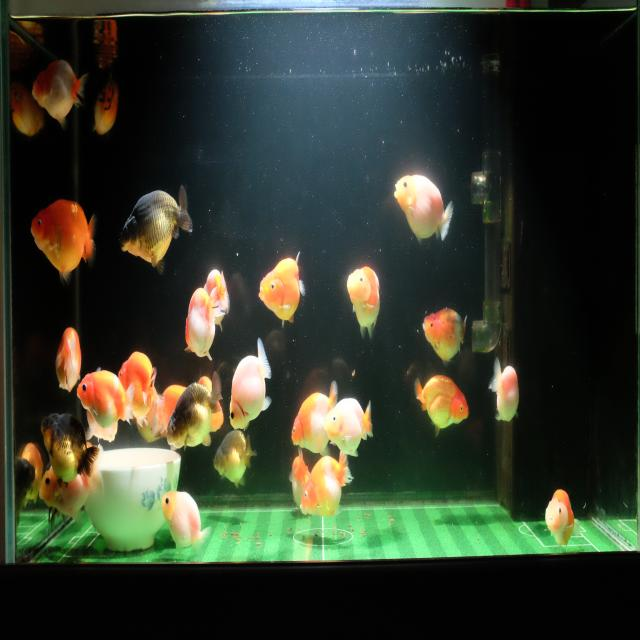Goldfish: (118, 183, 194, 277), (31, 197, 98, 286), (38, 446, 103, 524), (392, 172, 456, 249), (40, 410, 100, 487), (165, 373, 223, 451), (30, 55, 88, 130), (228, 338, 273, 432), (74, 368, 134, 434), (258, 250, 306, 331), (298, 451, 354, 519), (291, 378, 339, 456), (413, 375, 470, 440), (324, 394, 374, 462), (162, 488, 212, 556), (182, 286, 225, 362), (118, 347, 156, 430), (420, 305, 468, 370), (346, 263, 382, 344), (212, 428, 257, 492), (487, 354, 523, 428), (543, 486, 577, 552), (54, 323, 83, 398), (92, 74, 118, 139), (204, 267, 230, 331), (288, 451, 310, 511)
